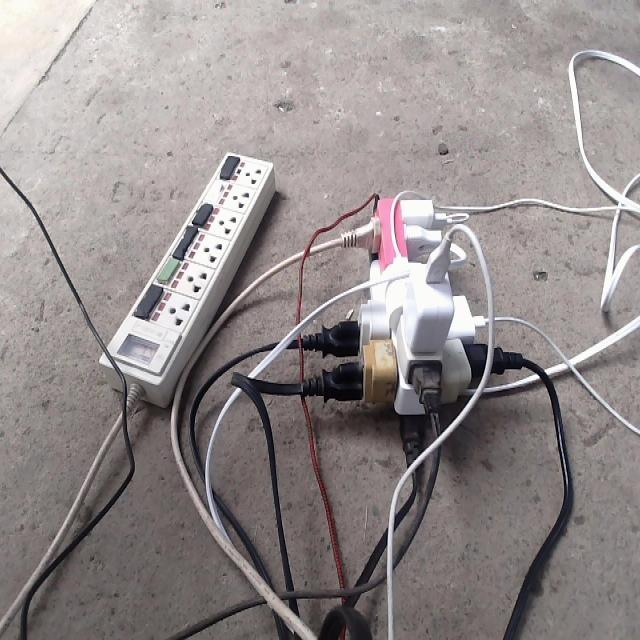-: (295, 191, 522, 452)
